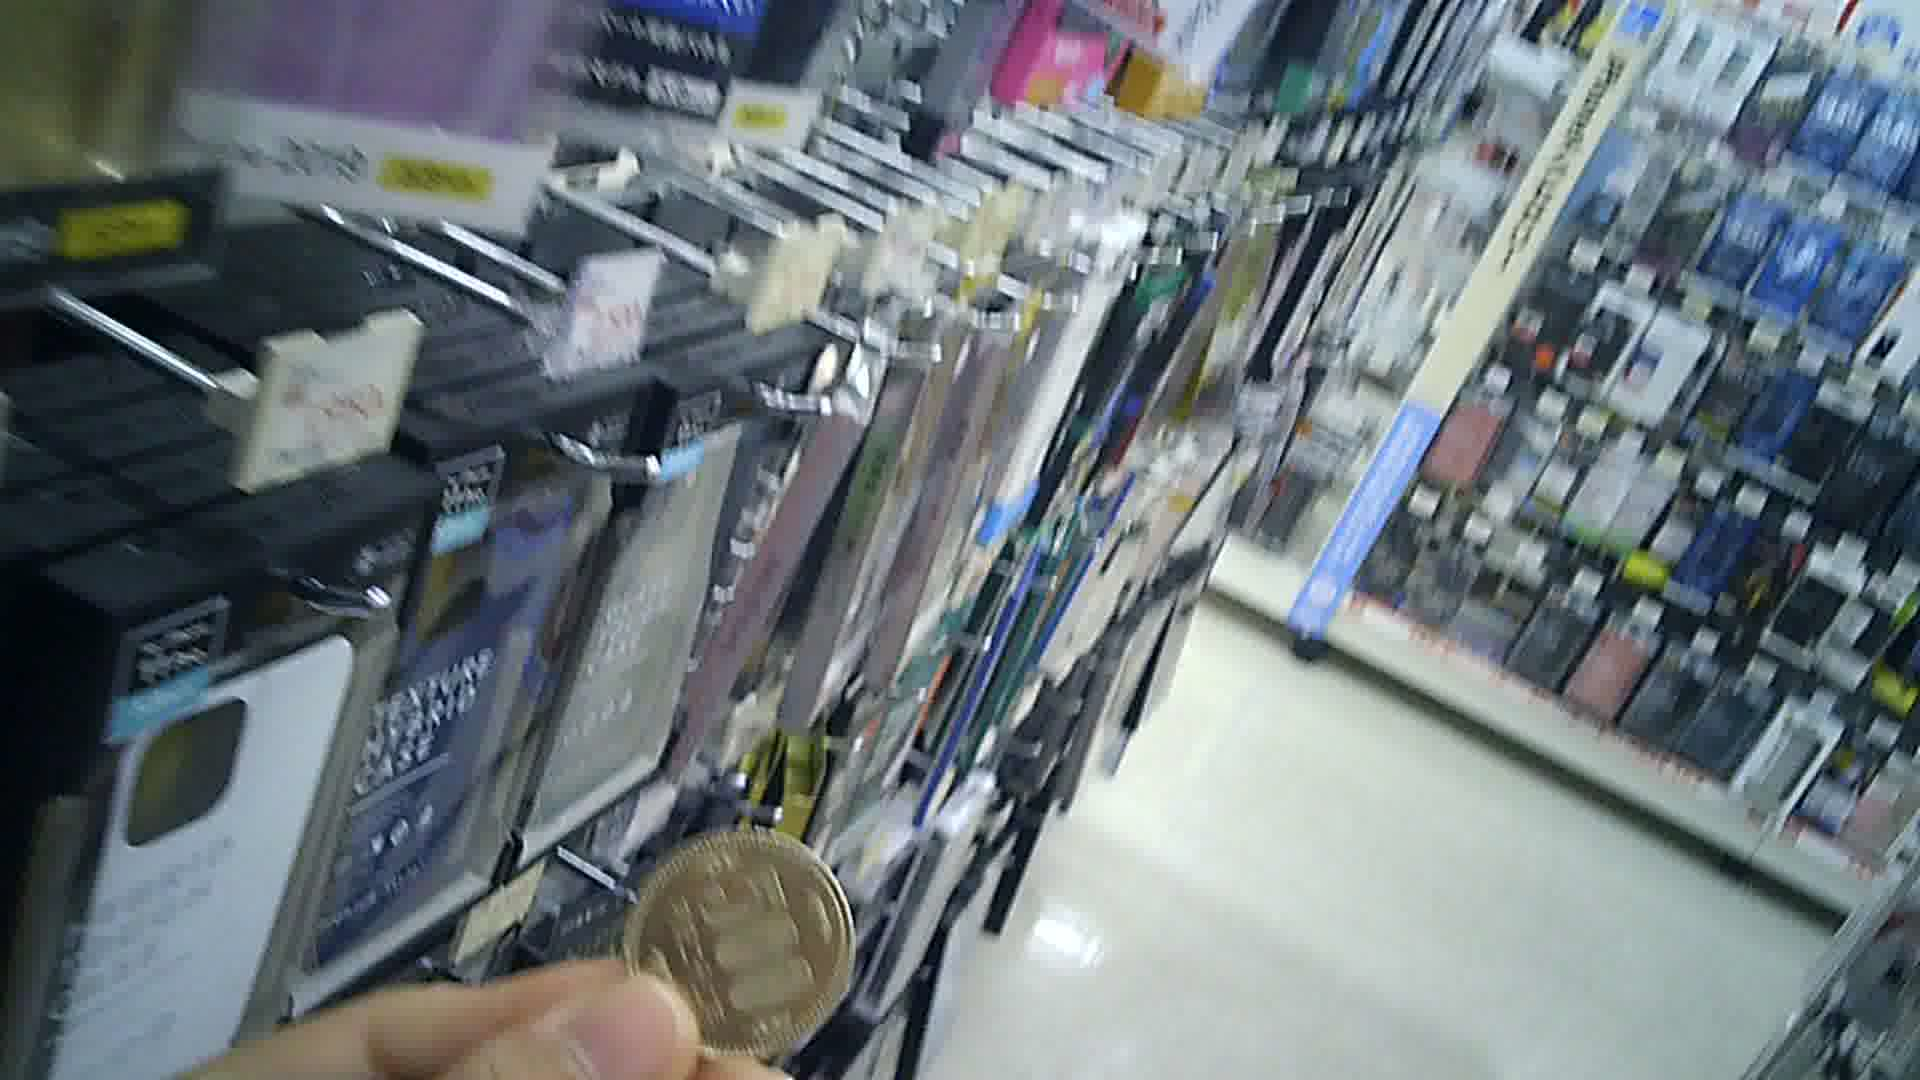500 Yen: (615, 820, 855, 1069)
